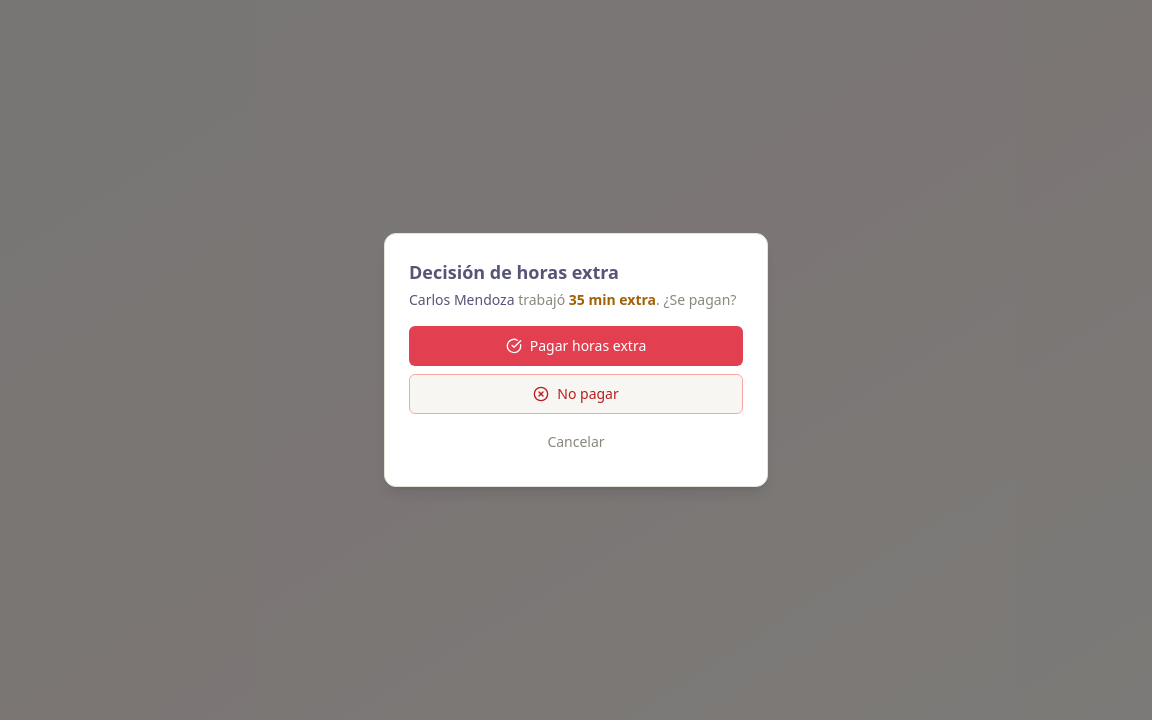
OvertimeDecisionDialog — actions › shows the valuation method step when Pagar button is clicked
What coordinates should you click on to do the following:
click the button with test id "btn-authorize-overtime"
I would click on:
 (576, 346)
Its box is [409,326,743,366].
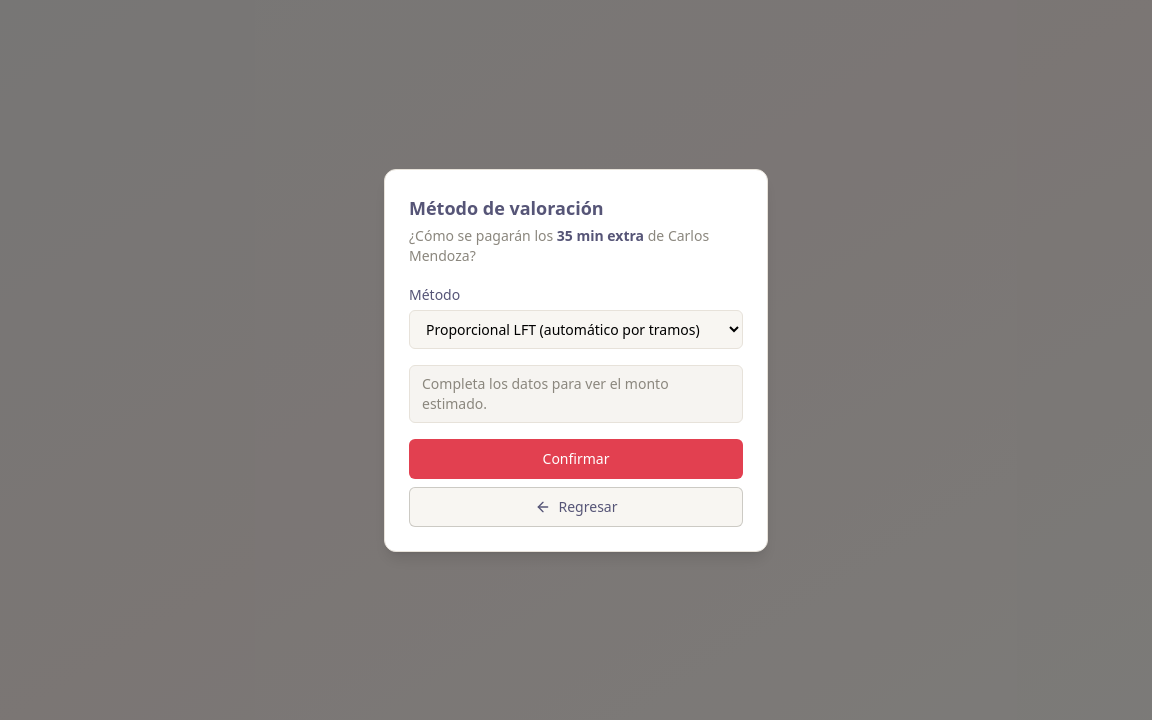
Expected: the dropdown labelled "Método" is shown, [409,310,743,348]
